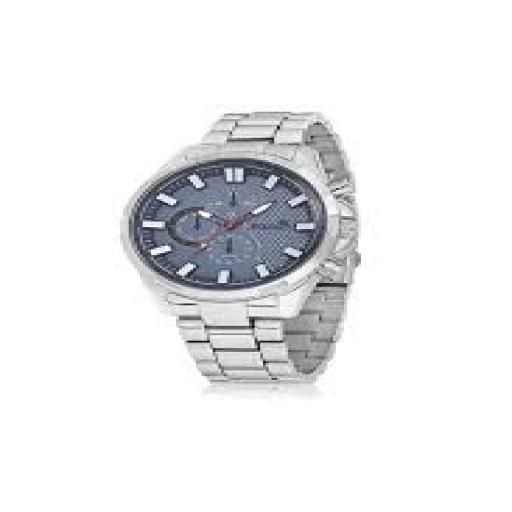KolSaati: (87, 66, 385, 434)
